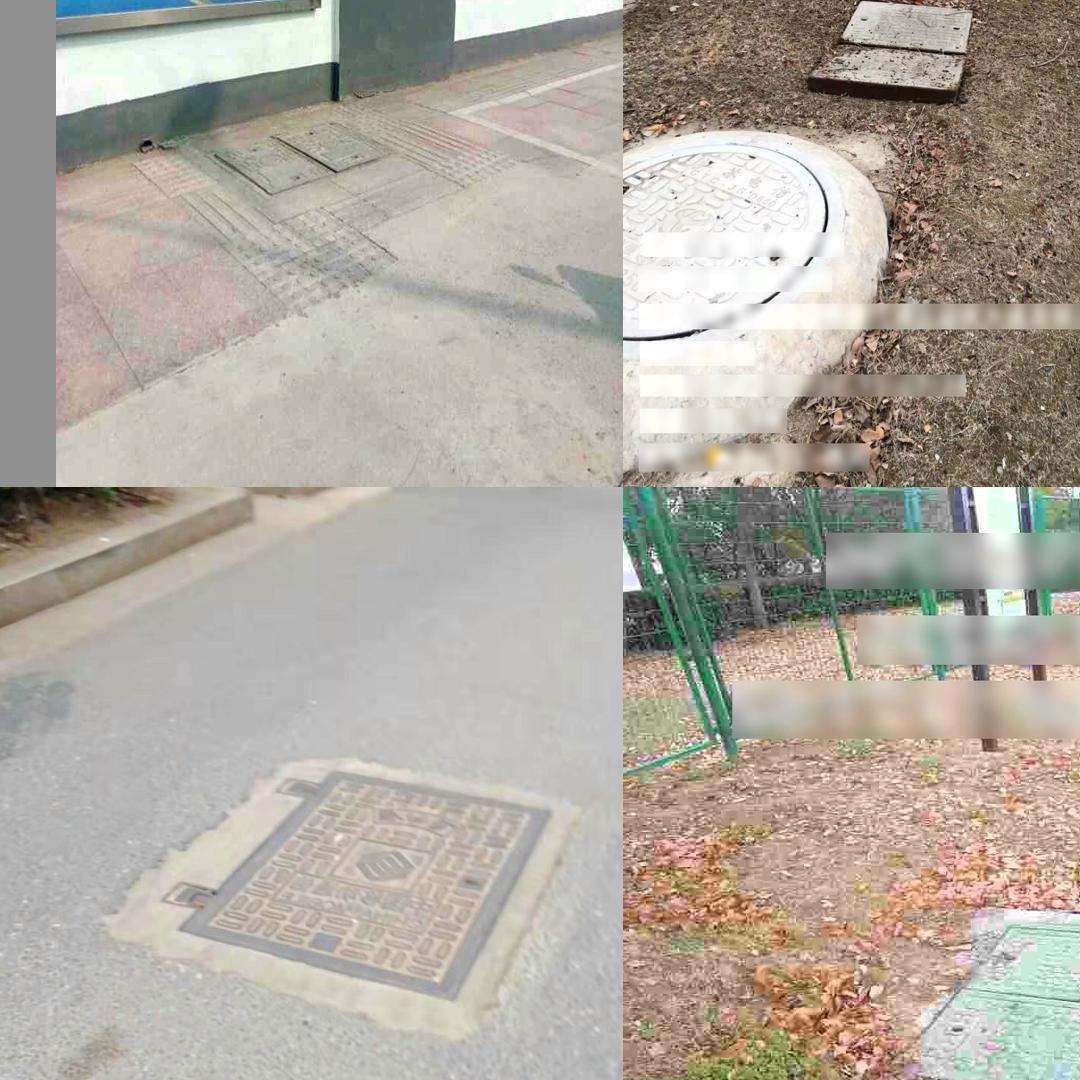good: (126, 759, 559, 992), (623, 141, 838, 346), (876, 921, 1080, 1080), (207, 118, 391, 194)
uncovered: (808, 0, 974, 99)
